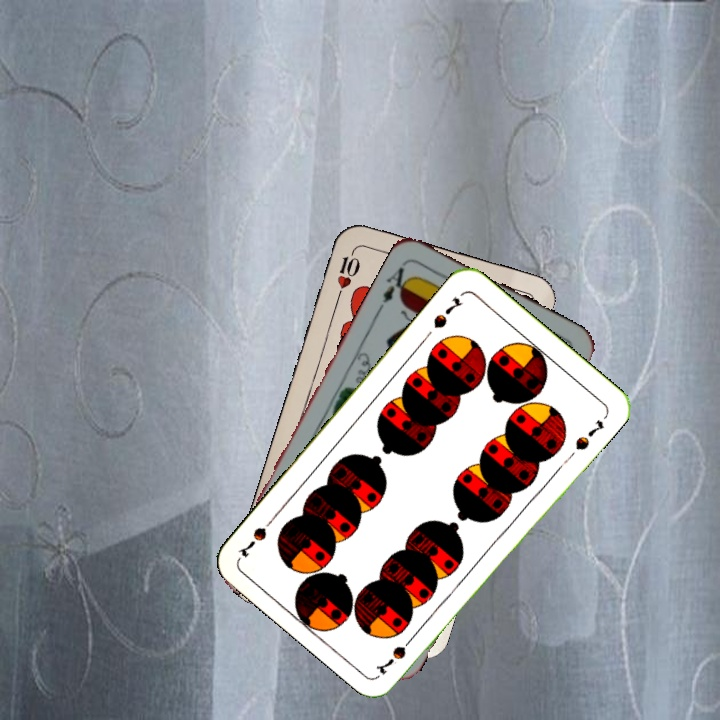EA: (375, 257, 415, 312)
H10: (333, 244, 363, 301)
S7: (372, 629, 419, 677), (429, 293, 465, 331)
